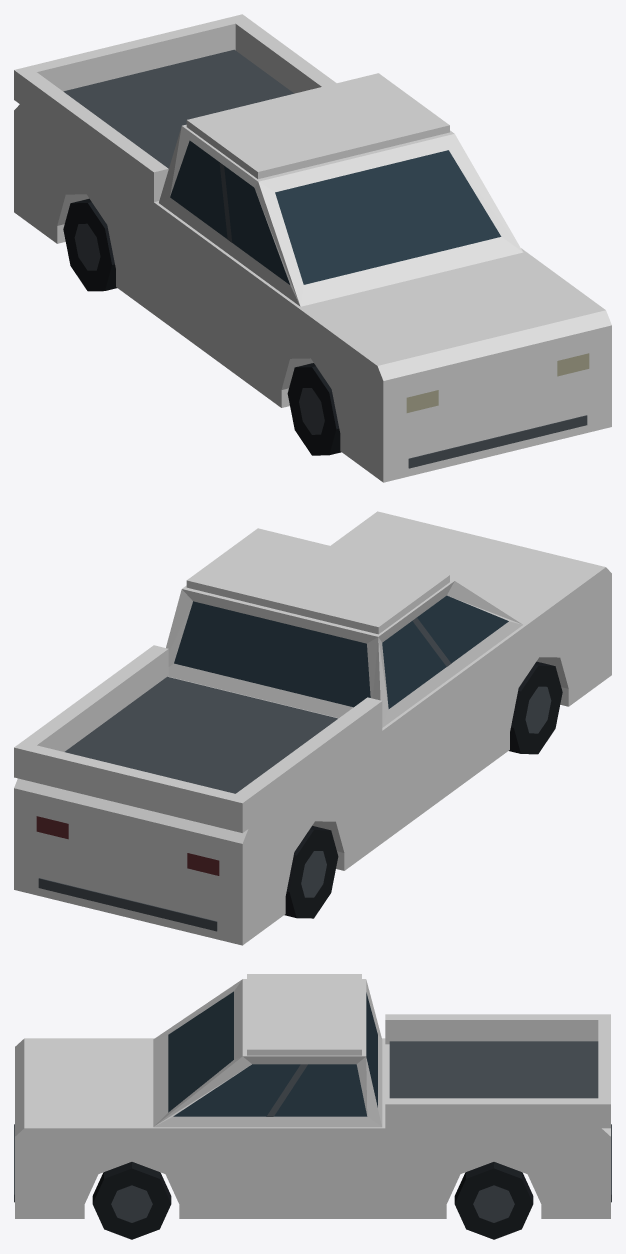
The model's file is pickup.glb.
The picture shows the model from 3 angles, top to bottom: view 1: azimuth 30°, elevation 25°; view 2: azimuth 150°, elevation 25°; view 3: azimuth 270°, elevation 25°; orthographic projection. The views are drawn at different scales.
Visible parts, largest first — view 1: vehicle_body; view 2: vehicle_body; view 3: vehicle_body.
Part boxes in pixels (bbox=[...]): vehicle_body: bbox=[14, 14, 611, 482]; vehicle_body: bbox=[14, 511, 611, 945]; vehicle_body: bbox=[14, 974, 611, 1239].
Bounding box in the file's own units: 2 × 1.9 × 5.62.
